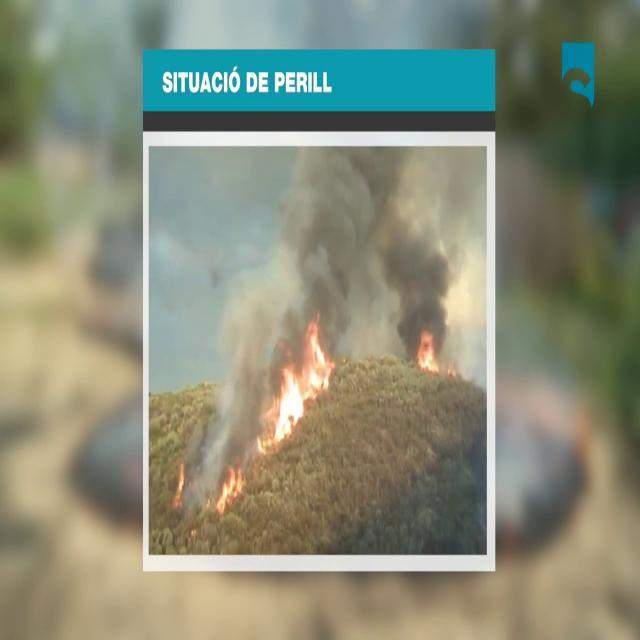Fire: (266, 326, 334, 446), (216, 461, 246, 511), (415, 328, 441, 377), (173, 456, 187, 508)
Smoke: (267, 144, 487, 357), (194, 251, 280, 488)
